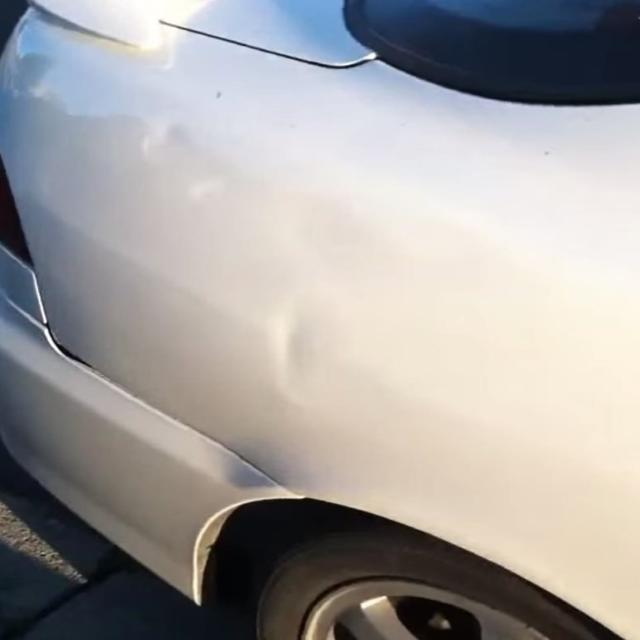dent: (263, 298, 315, 409)
misalignment: (42, 322, 93, 368)
scratch: (223, 438, 302, 492)
